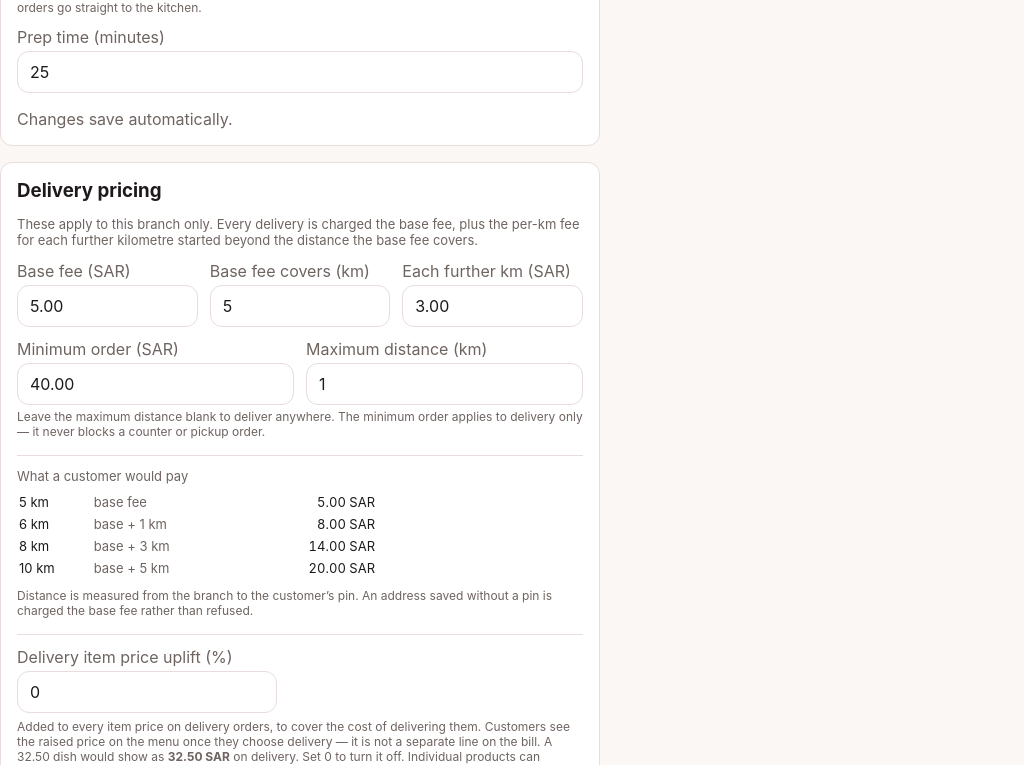
Test: Branch settings — delivery pricing › puts the server value back in the box after a rejected save
This screenshot has width=1024, height=765.
(page scrolled)
Replace the text in the number field with placeholder "No limit" with "900" at point(444, 384), box [306, 363, 583, 405]
(page scrolled)
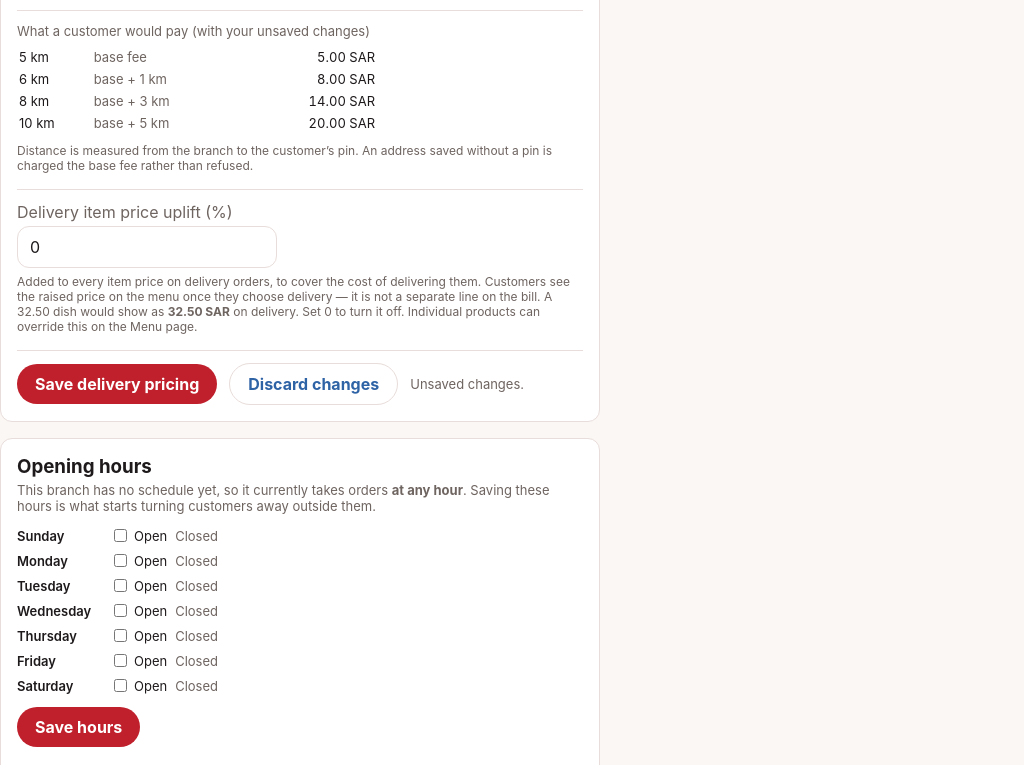
Click the button "Save delivery pricing".
click(117, 384)  # box [17, 364, 217, 404]
(page scrolled)
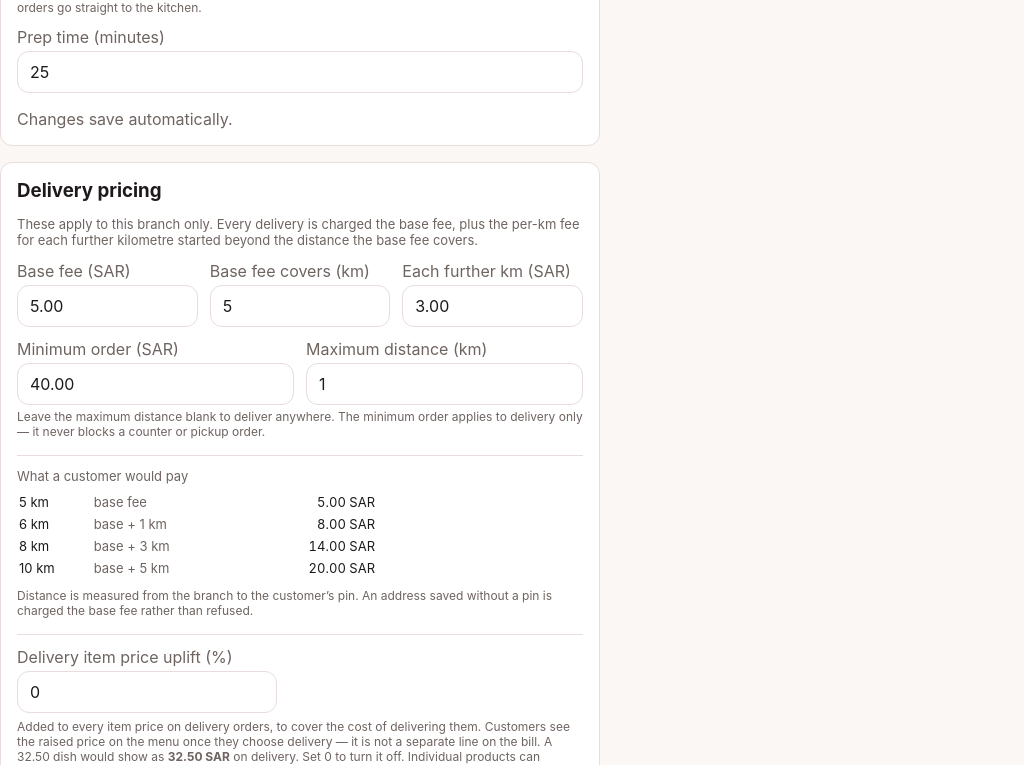
Check: the number field with placeholder "No limit" holds "1", box [306, 363, 583, 405]
